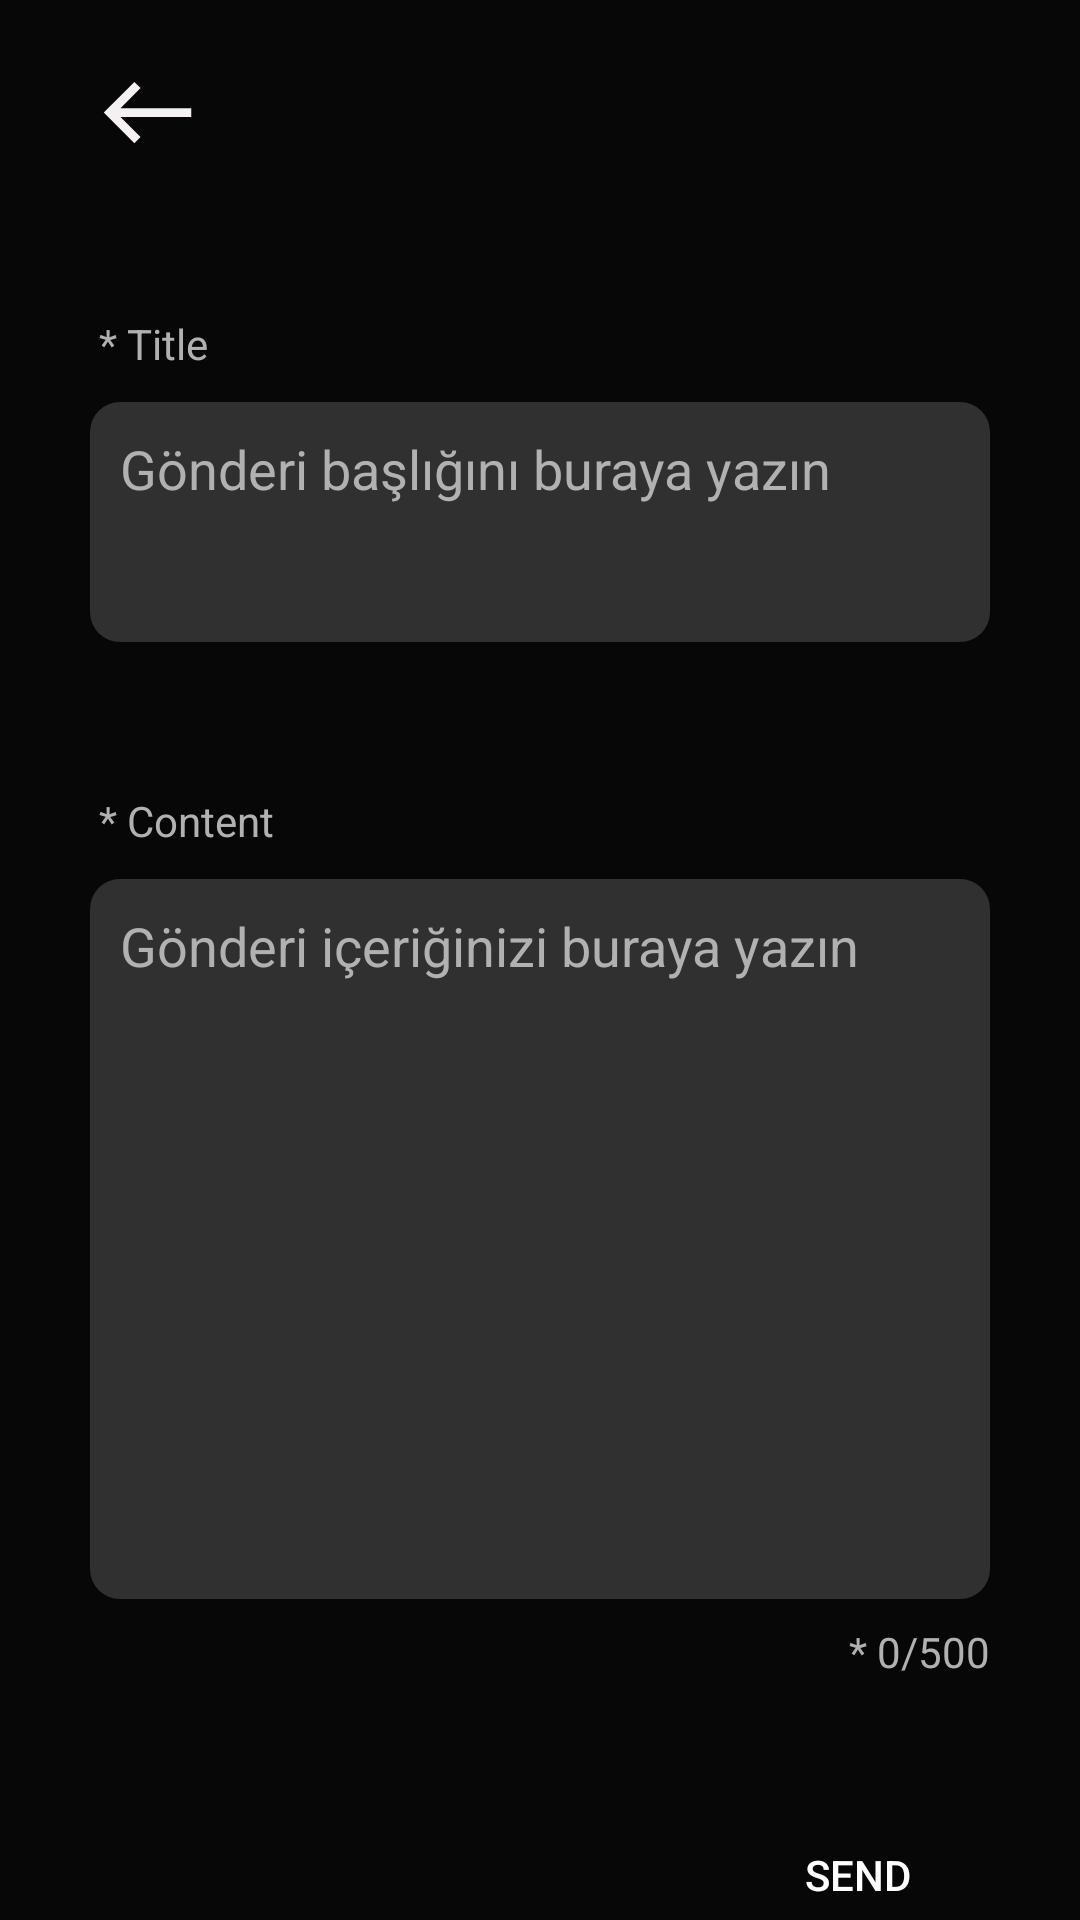

Where icons sit on this 1080 x 1920 app screen, as (x1, y1, x2, y2):
west: (104, 82, 192, 143)
